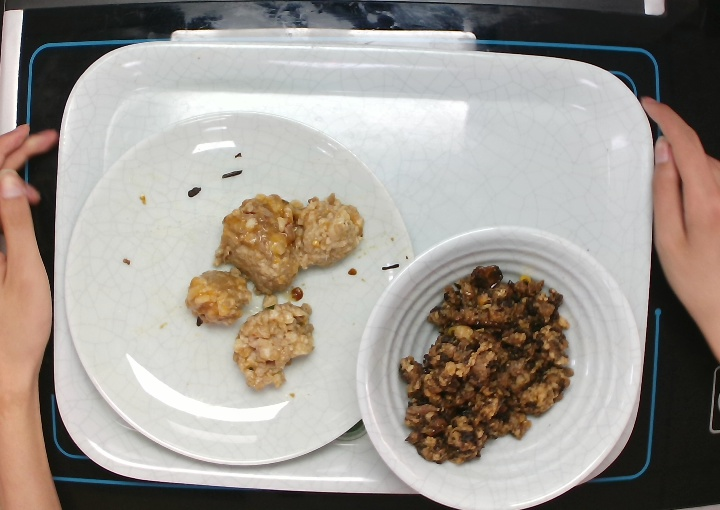JYsf-Da_Yuan_Pan: (60, 107, 418, 469)
JYsf-Xiao_Tang_Wan: (351, 221, 646, 510)
